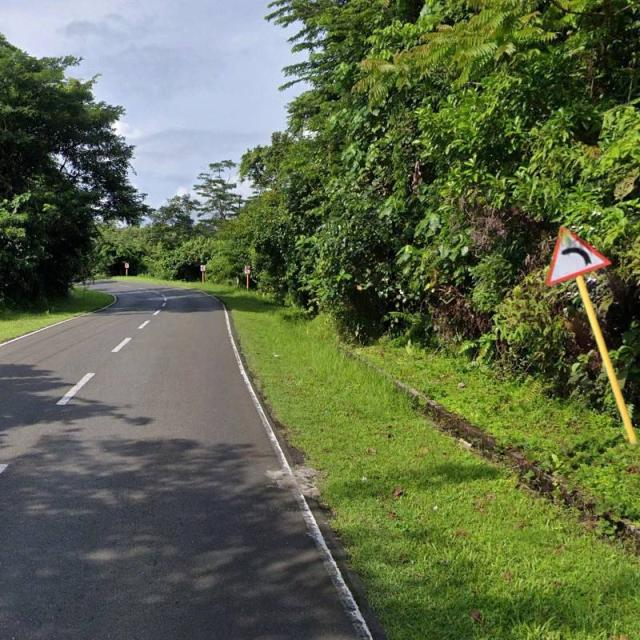warn_left_curve: (545, 226, 612, 289)
